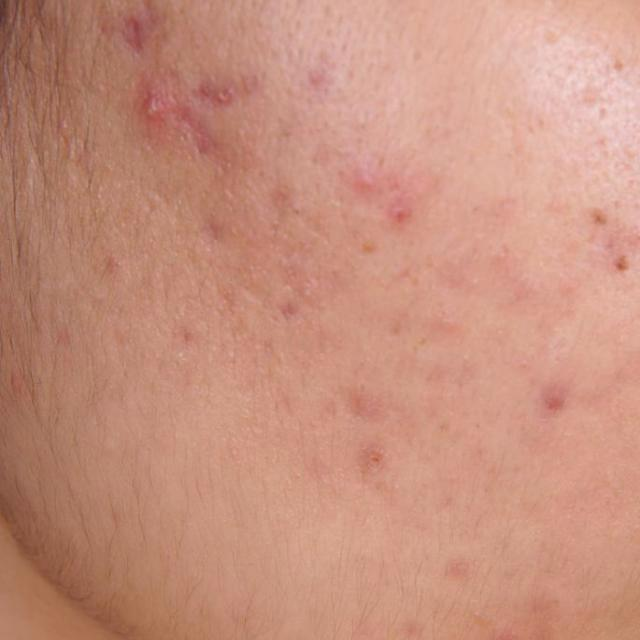Pimples: (338, 158, 412, 217), (188, 68, 248, 108), (342, 377, 387, 418), (356, 436, 382, 479), (136, 85, 166, 122), (541, 379, 567, 411), (122, 17, 150, 45), (304, 58, 330, 86), (609, 244, 629, 278), (584, 201, 606, 226)
